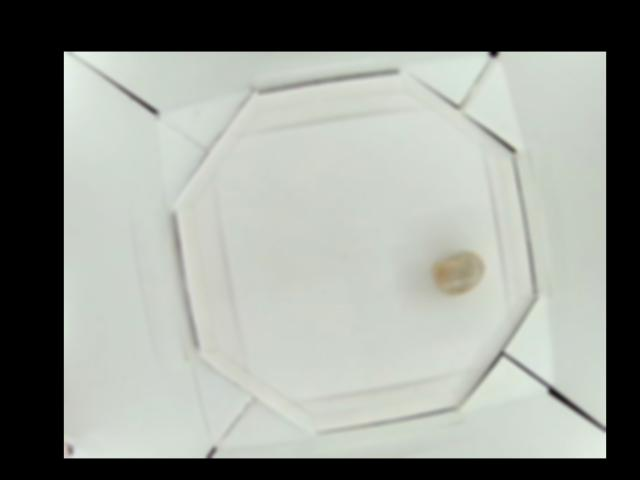Pebble: (433, 251, 485, 293)
